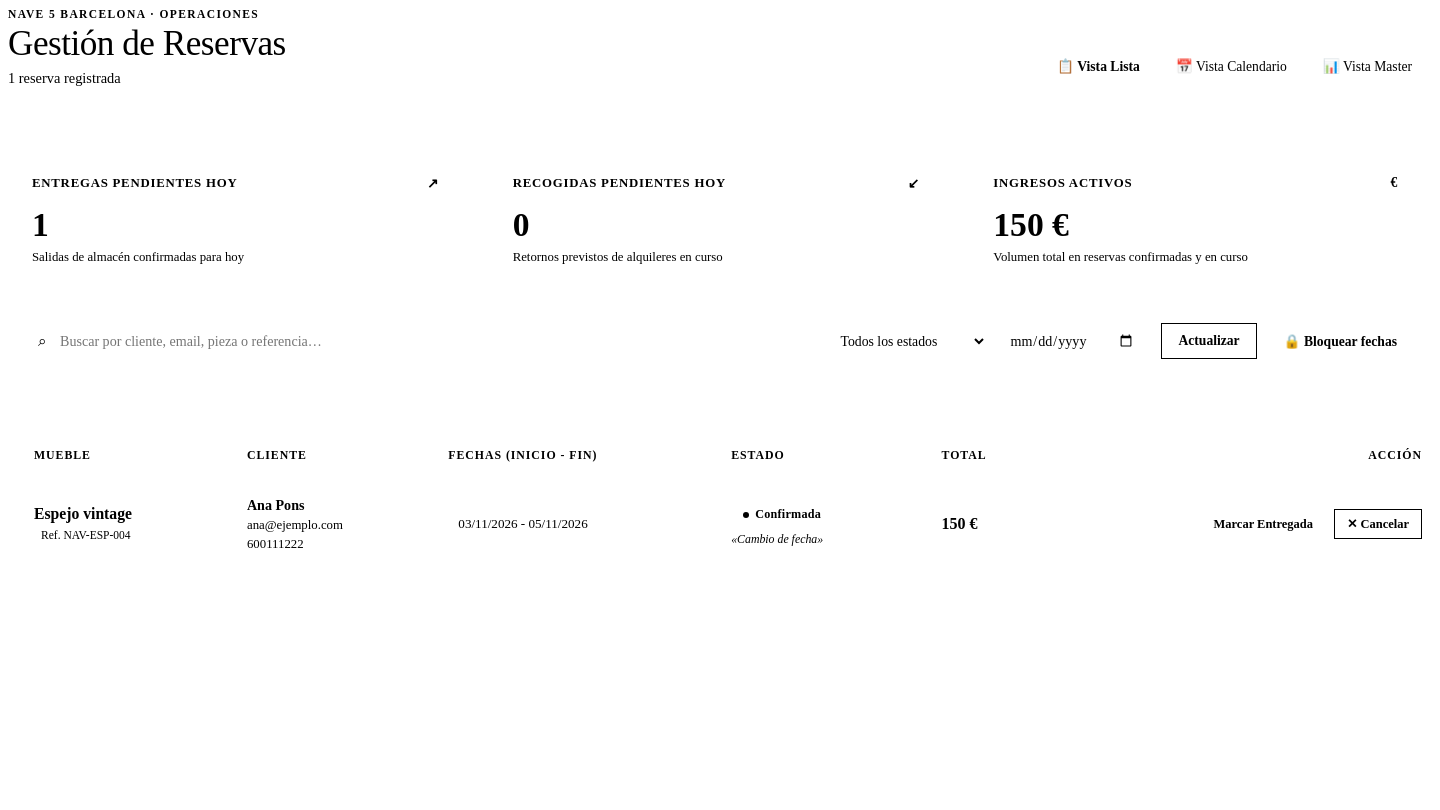
ReservasTab — cobertura de casos restantes › modal de cancelación › enseña el motivo del cliente y «Volver» cierra sin mandar nada
This screenshot has width=1440, height=810.
expect the button "Actualizar" is enabled: met, box x1=1162 y1=324 x2=1257 y2=360
Click the button "✕ Cancelar": (1378, 524) x1=1334 y1=510 x2=1422 y2=540
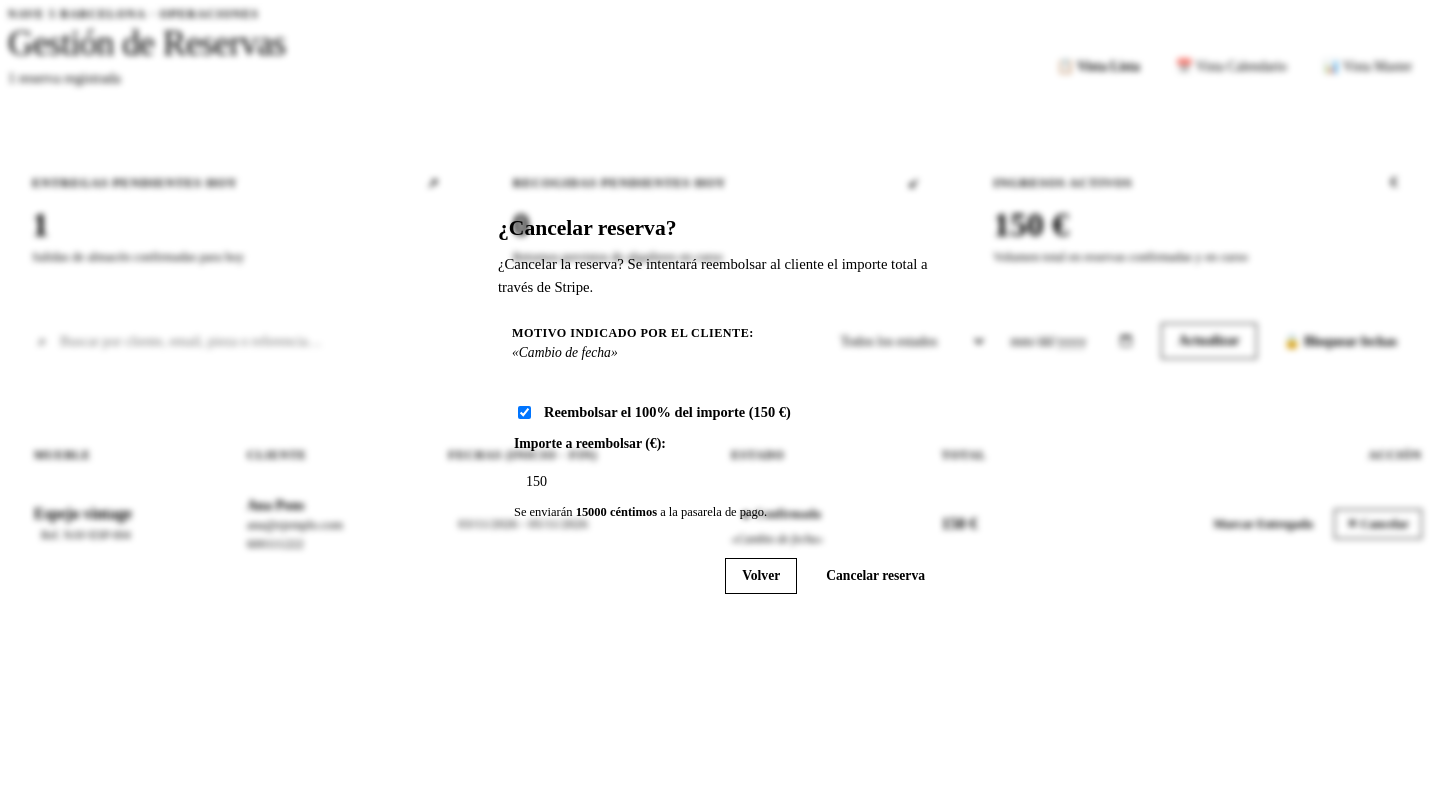
expect the text "Motivo indicado por el cliente:" is shown: met, box x1=512 y1=326 x2=754 y2=340
Click the button "Volver": (761, 576) x1=725 y1=558 x2=797 y2=594
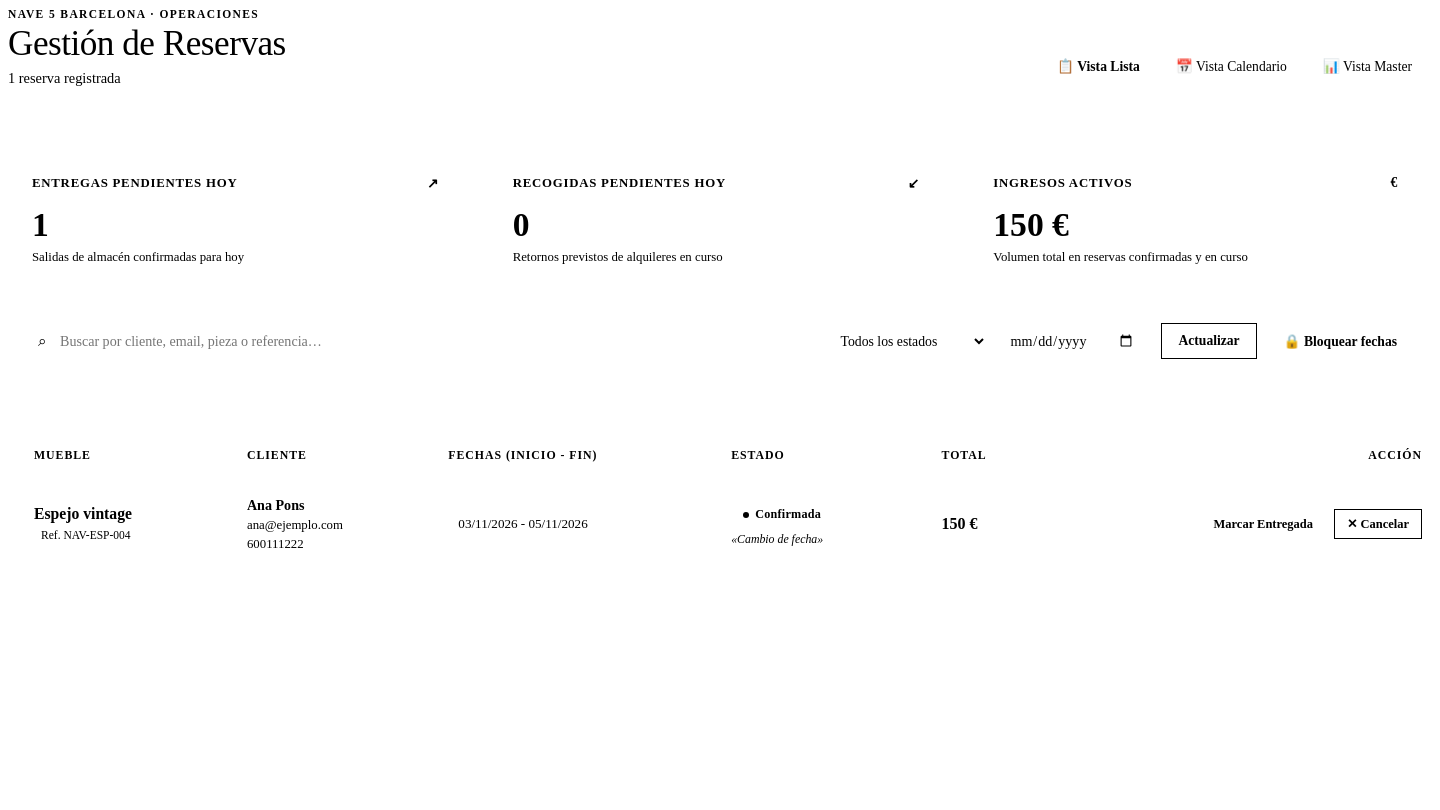
expect the heading "¿Cancelar reserva?" is gone: met
